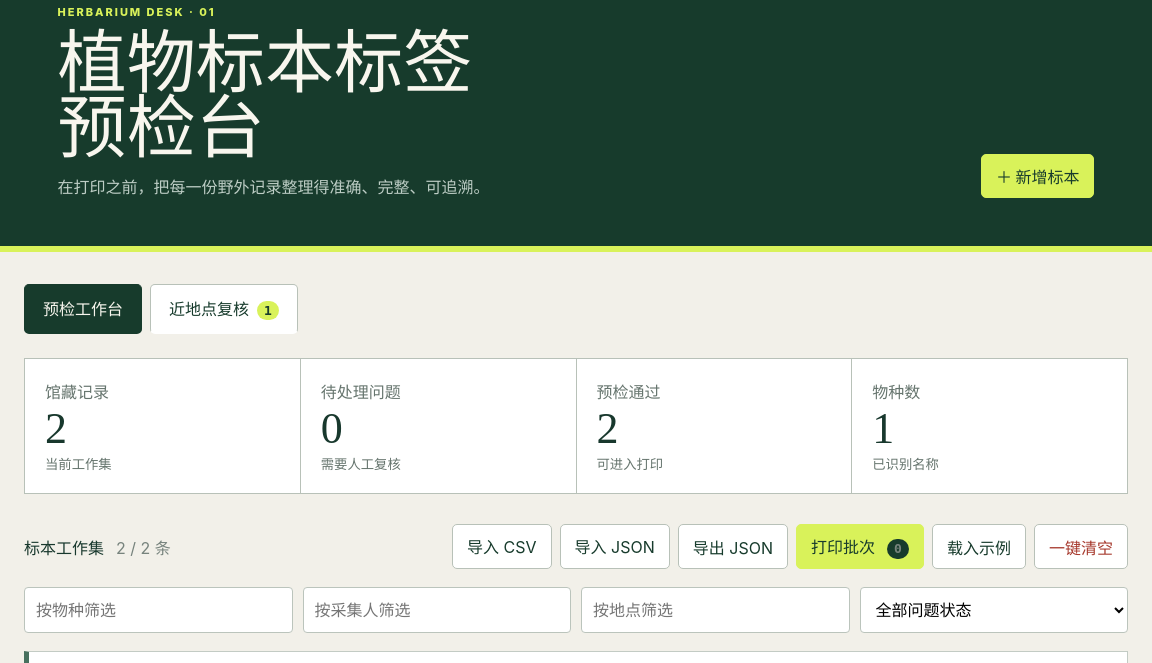
it: 近地点复核工作区 › 编辑编号、物种、采集人或日期同样使对应结论失效，回到待复核
The image size is (1152, 663).
Click the button "近地点复核 1" at [224, 309], box [150,284,298,334]
(page scrolled)
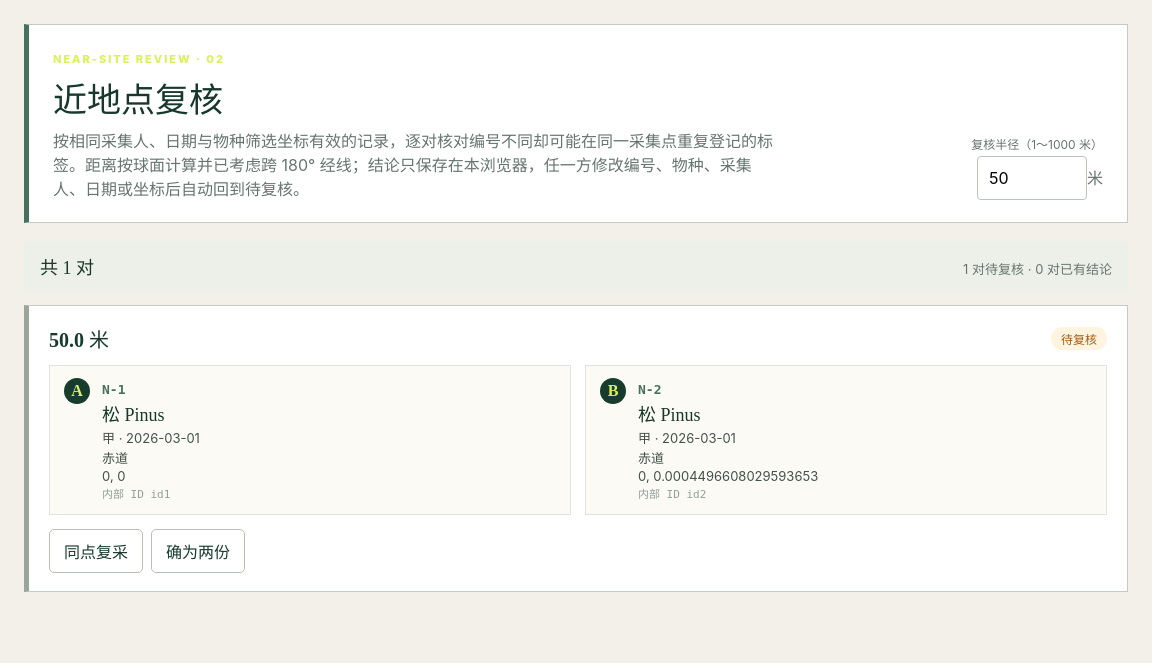
Click the button "同点复采" at [96, 552], box [49,530,143,574]
(page scrolled)
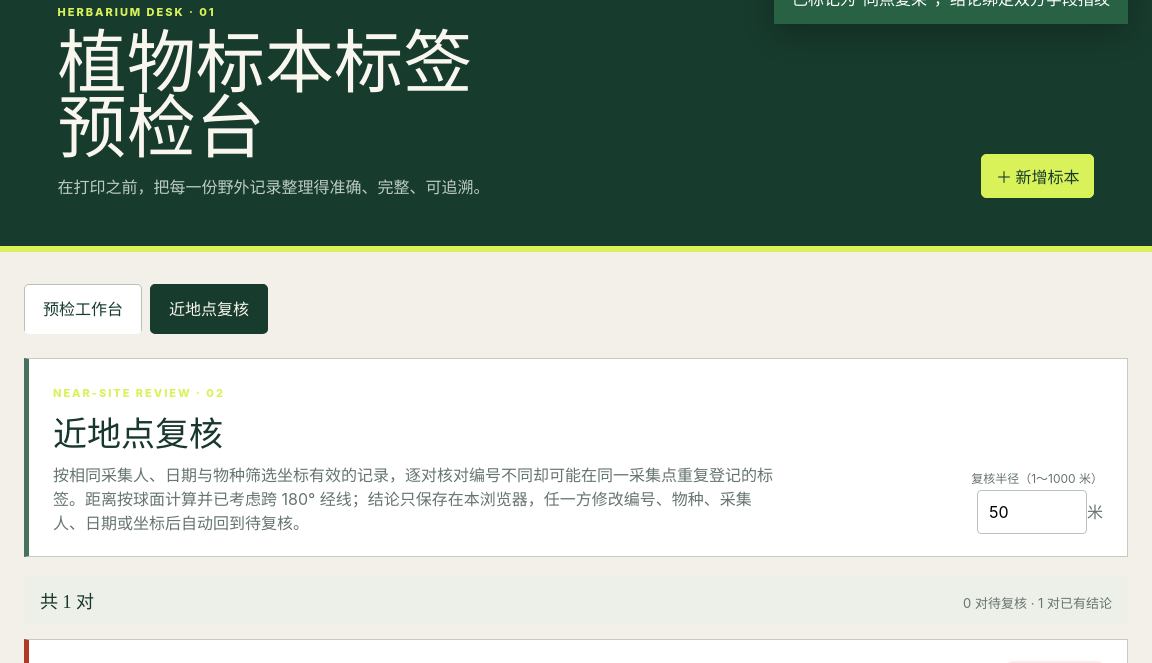
Click the button "预检工作台" at [83, 309], box [24,284,142,334]
(page scrolled)
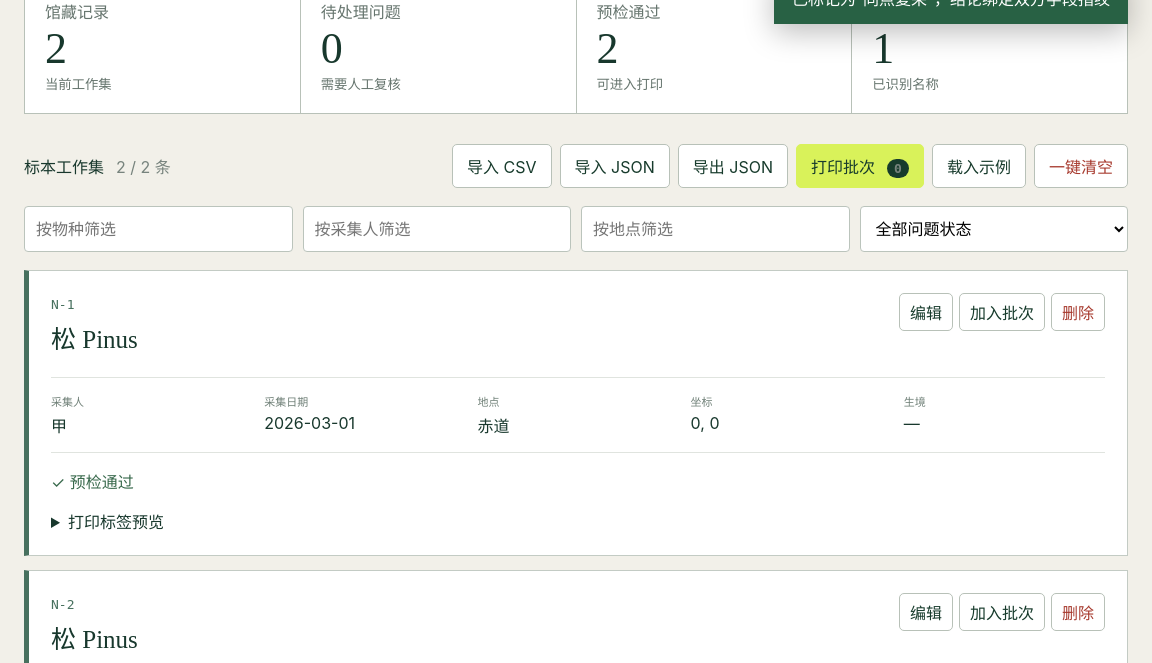
Click the button "编辑" in the row of "N-1" at [926, 312], box [899,293,953,331]
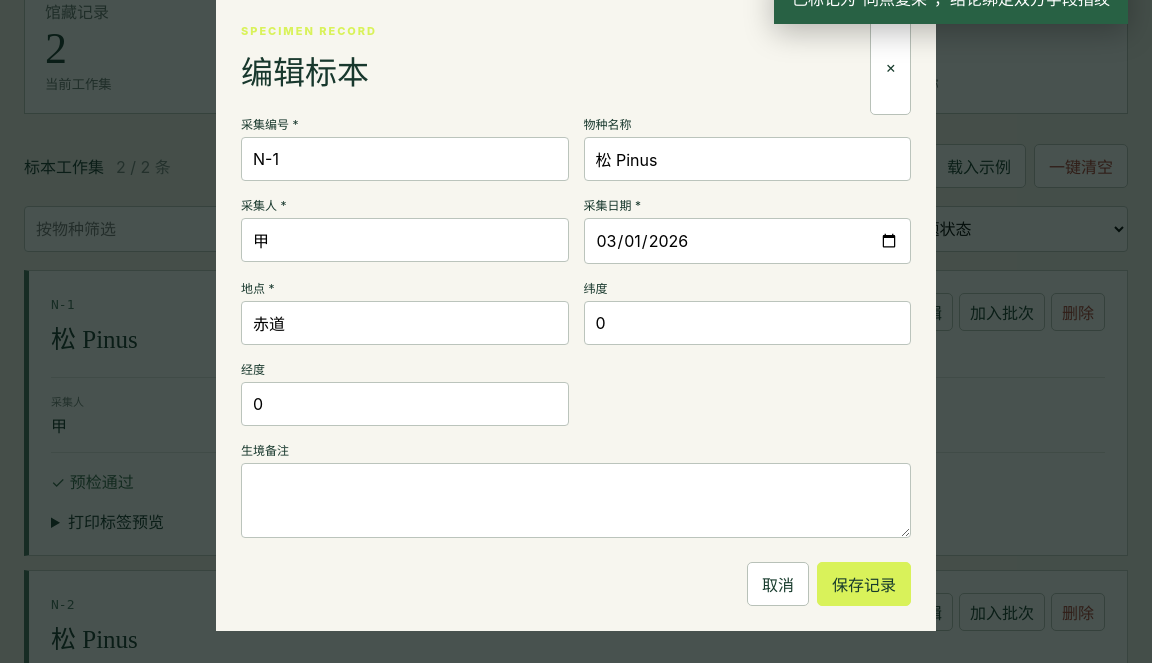
Replace the text in the field labelled "采集编号 *" with "N-9" at [405, 158], box [241,136,568,180]
Click the button "保存记录" at [864, 584], box [817,562,911,606]
(page scrolled)
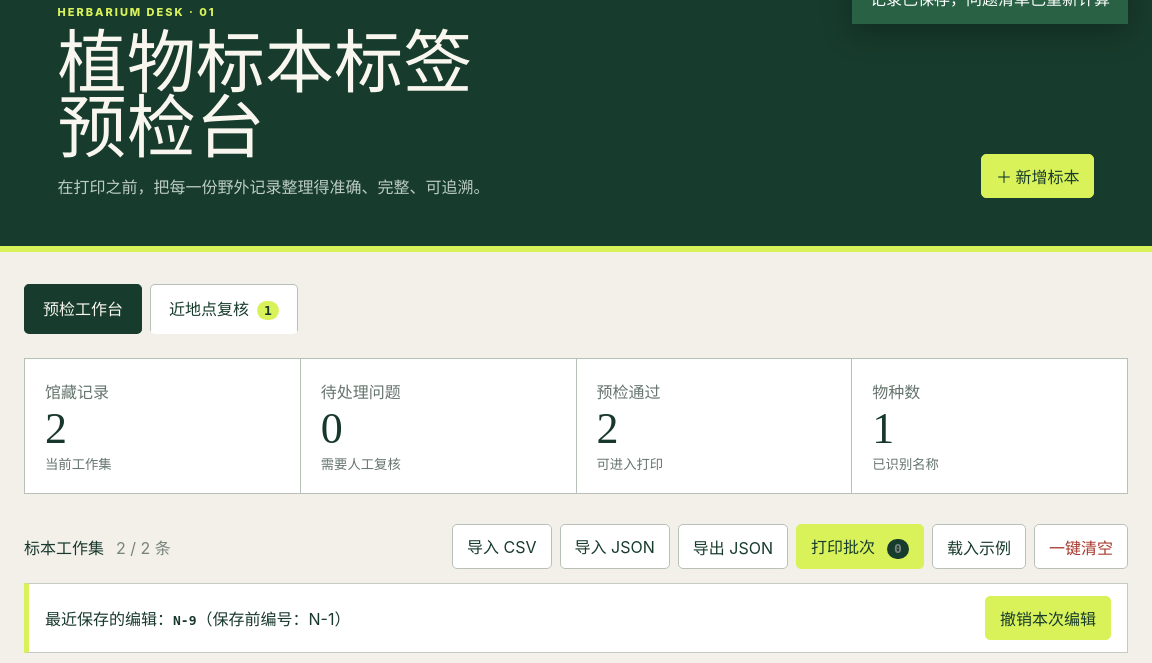
Click the button "近地点复核 1" at [224, 309], box [150,284,298,334]
(page scrolled)
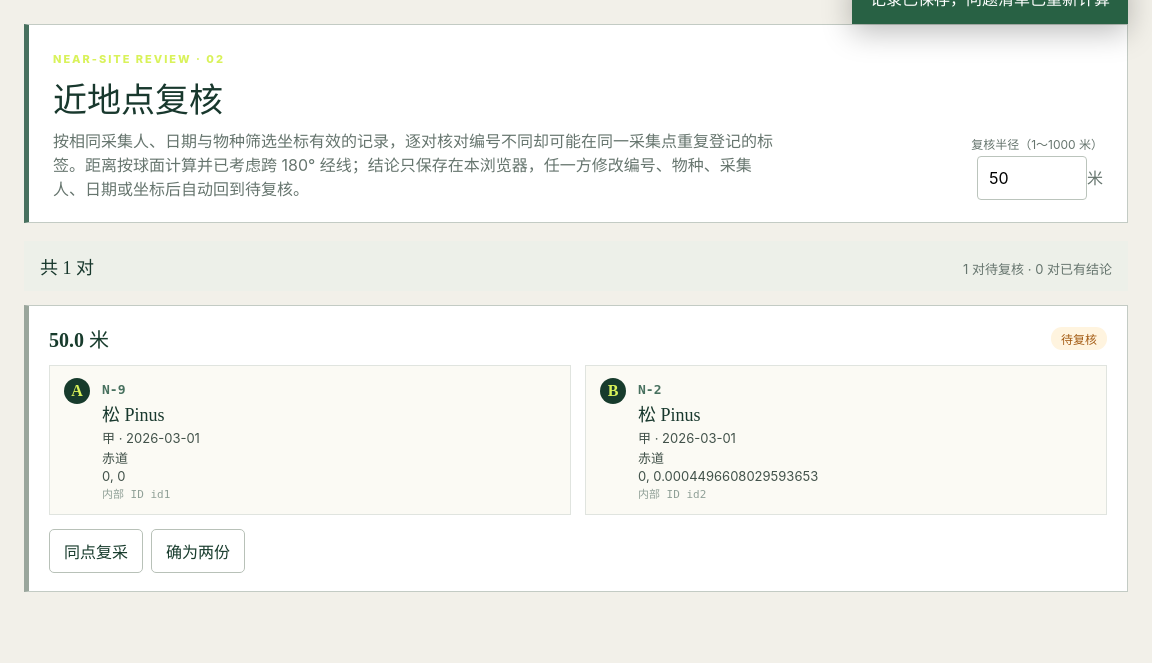
Expected: the text "待复核" is shown, [1051,328,1107,350]
